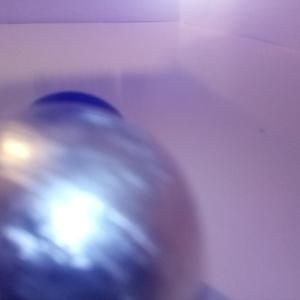alive_ball: (1, 102, 203, 300)
dead_ball: (27, 91, 125, 138)
